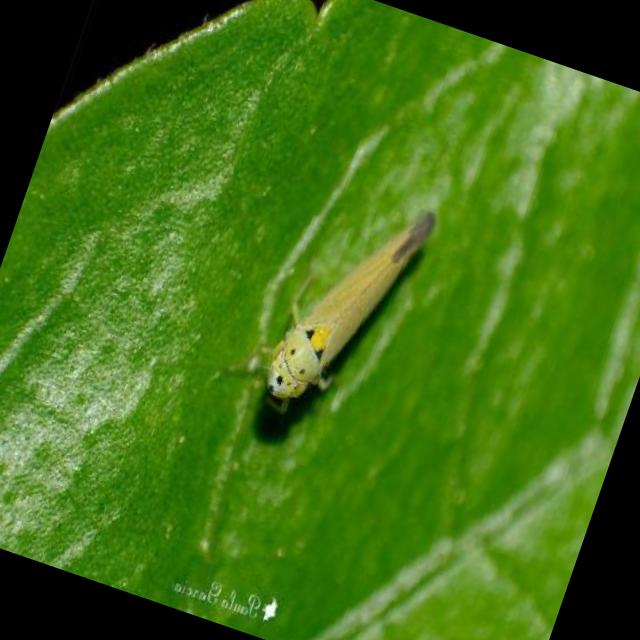green-leafhopper: (220, 162, 440, 445)
